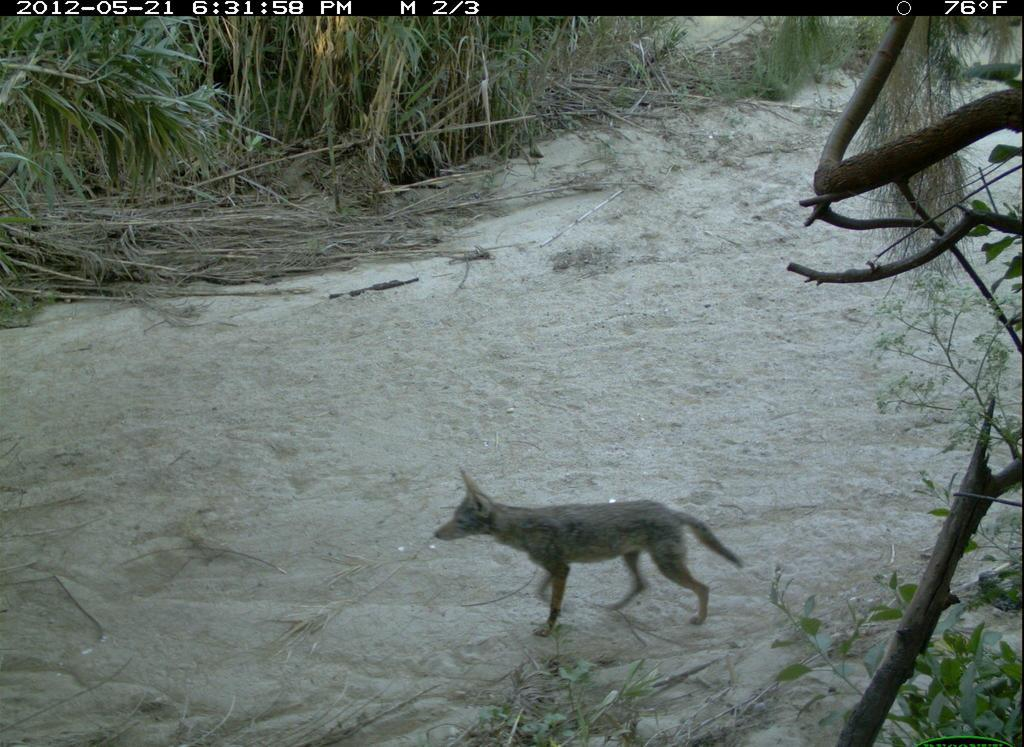coyote: (434, 468, 747, 639)
